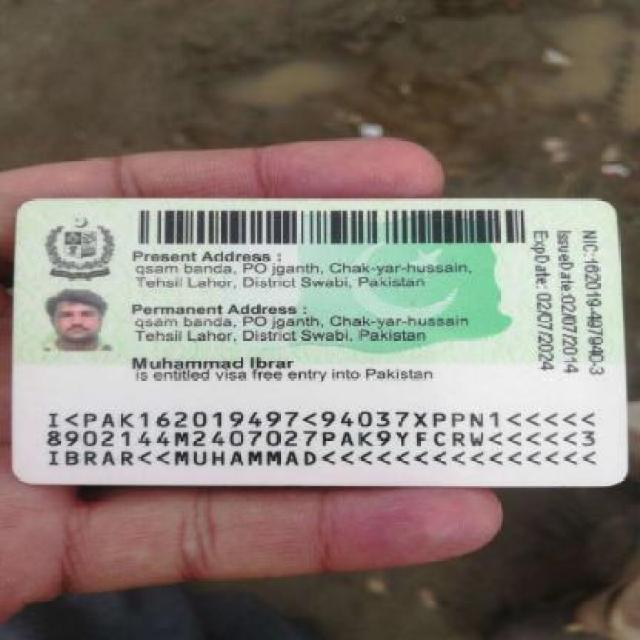Back: (8, 190, 634, 492)
